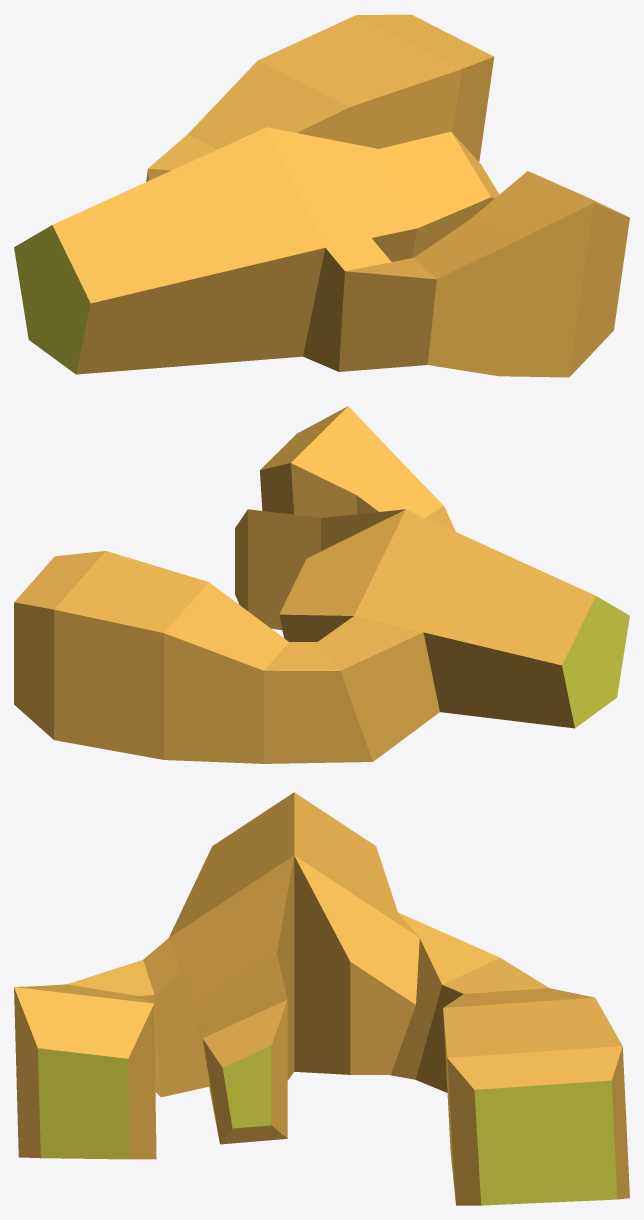
The model's file is ginger01.obj.
The picture shows the model from 3 angles, top to bottom: view 1: azimuth 30°, elevation 25°; view 2: azimuth 150°, elevation 25°; view 3: azimuth 270°, elevation 25°; orthographic projection. The views are drawn at different scales.
Visible parts, largest first — view 1: Cylinder; view 2: Cylinder; view 3: Cylinder.
Part boxes in pixels (x1=…): Cylinder: x1=14, y1=14, x2=629, y2=377; Cylinder: x1=14, y1=406, x2=629, y2=763; Cylinder: x1=14, y1=792, x2=629, y2=1205.
Size of the model in its own units: 0.0736 by 0.0282 by 0.0699.
Materials: 1 (1 with a texture image).
